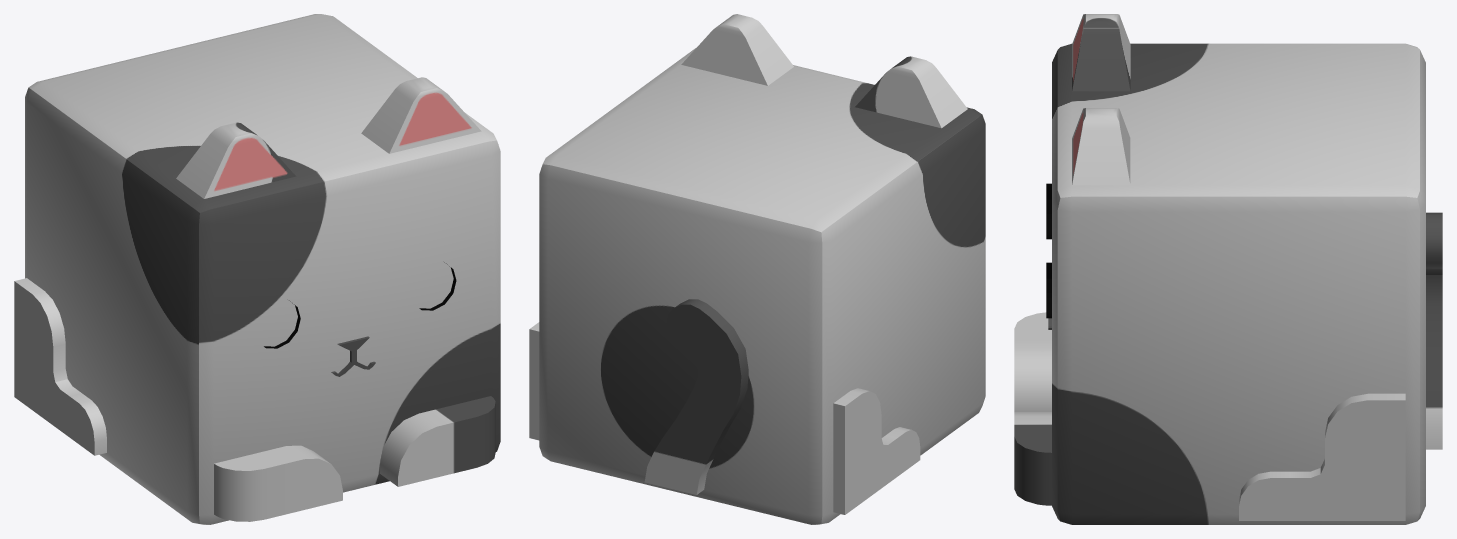
File: Cube_SpottedCat.glb
The picture shows the model from 3 angles, left to right: view 1: azimuth 30°, elevation 25°; view 2: azimuth 150°, elevation 25°; view 3: azimuth 270°, elevation 25°; orthographic projection. The views are drawn at different scales.
Visible parts, largest first — view 1: SpotCat; view 2: SpotCat; view 3: SpotCat.
Part boxes in pixels (box(x1,y1,x2,y2)): SpotCat: box(14, 14, 500, 524); SpotCat: box(529, 14, 985, 524); SpotCat: box(1014, 14, 1442, 524).
Bounding box in the file's own units: 1.08 × 1.15 × 1.14.
1 material, 1 textured.
